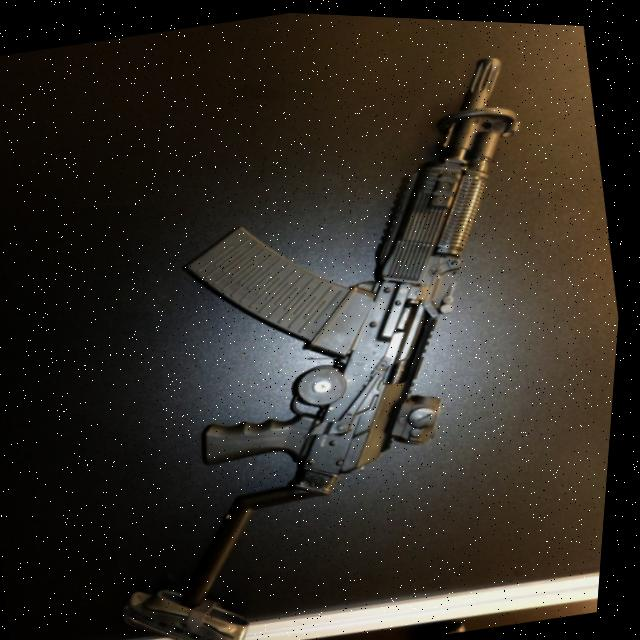firearm: (32, 33, 619, 640)
